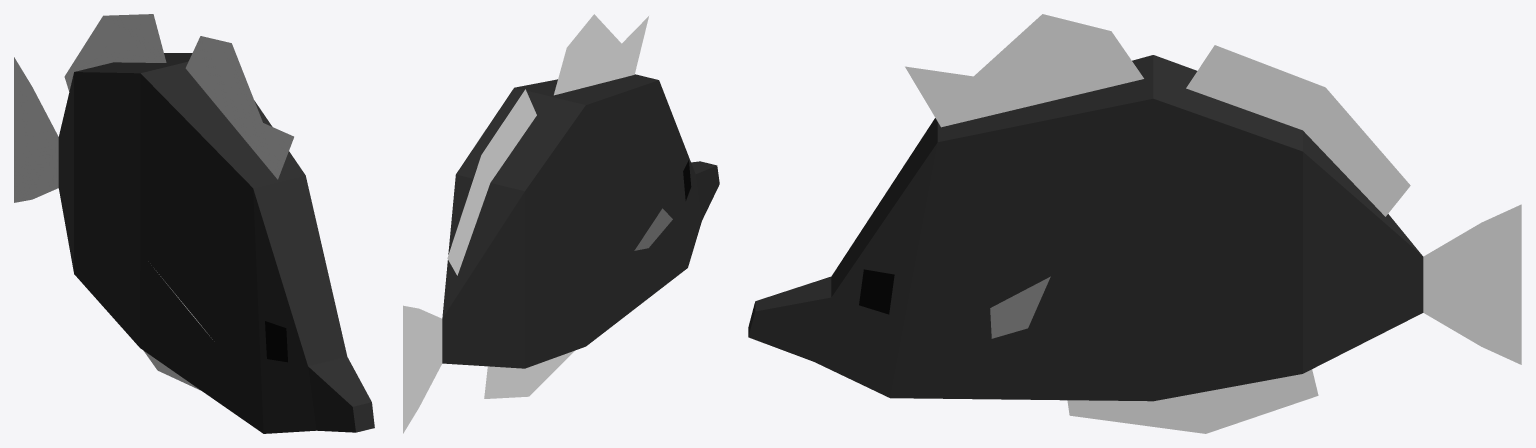
The model's file is 14fish.fbx.
3 renders of one model, left to right at view 1: azimuth 30°, elevation 25°; view 2: azimuth 150°, elevation 25°; view 3: azimuth 270°, elevation 25°, orthographic. The views are drawn at different scales.
Parts seen in each view (by area): view 1: Tropical Fish 14; view 2: Tropical Fish 14; view 3: Tropical Fish 14.
Boxes of the visible parts, x1,y1,x2,y2 form: Tropical Fish 14: (14, 14, 374, 433); Tropical Fish 14: (403, 14, 719, 433); Tropical Fish 14: (748, 14, 1521, 433).
Bounding box in the file's own units: 69.28 × 155 × 259.
